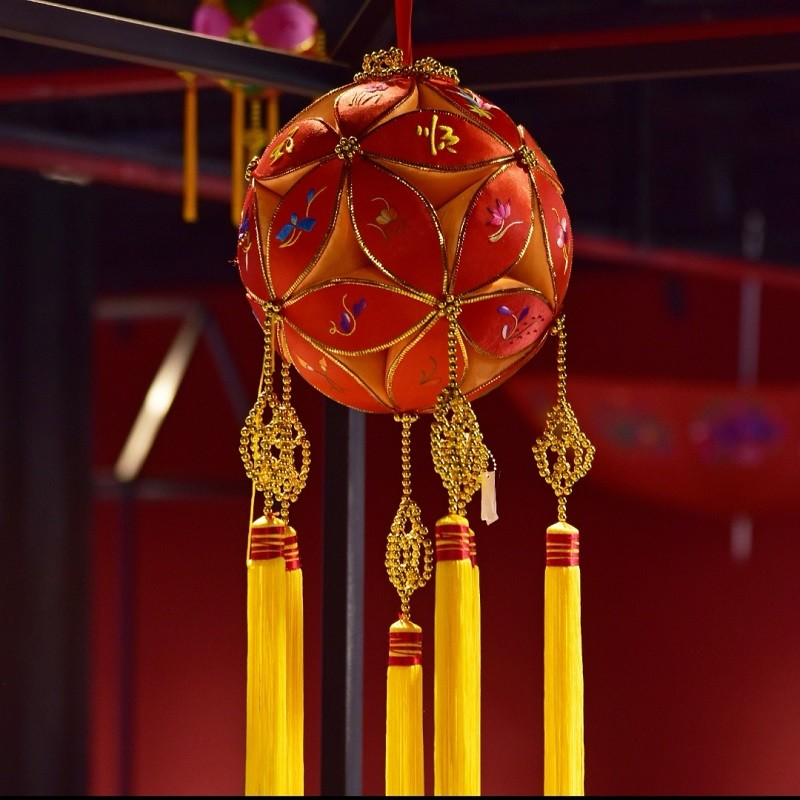xiuqiu: (235, 75, 572, 419)
